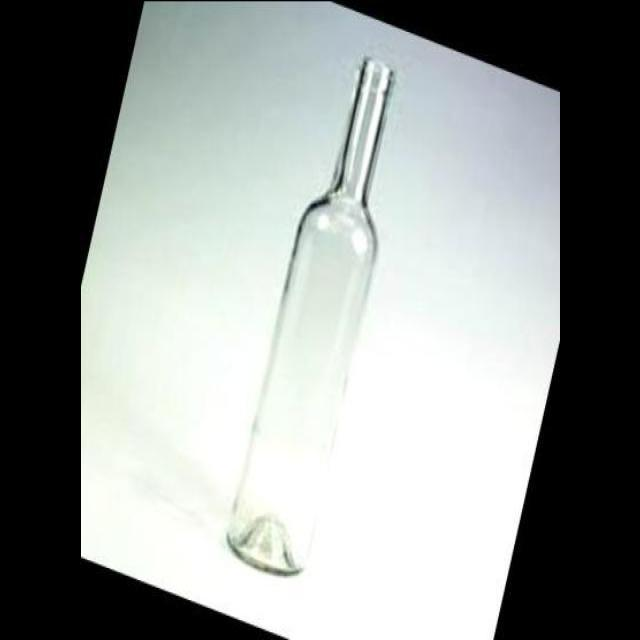Glass: (216, 47, 407, 590)
